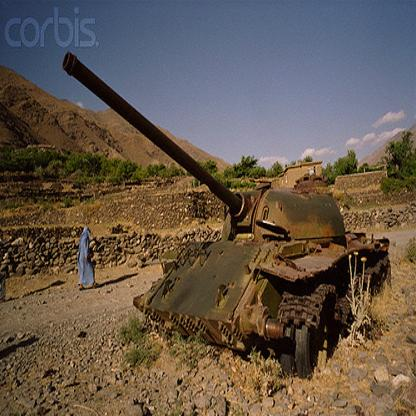Tank: (128, 105, 394, 383)
